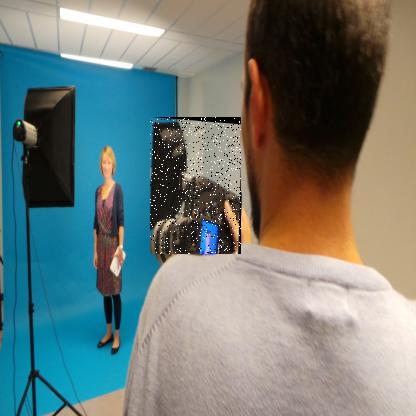Camera: (151, 118, 243, 256)
